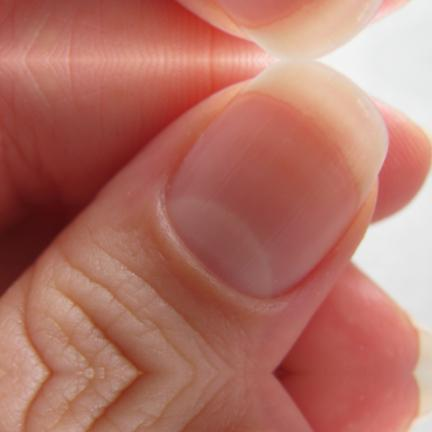Nail: (164, 59, 389, 298), (216, 0, 383, 59)
